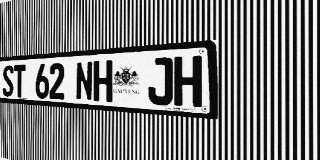2: (49, 63, 64, 100)
6: (35, 63, 49, 99)
H: (174, 56, 202, 107), (93, 60, 112, 102)
J: (148, 57, 173, 106)
N: (76, 61, 93, 101)
S: (3, 65, 14, 97)
T: (14, 65, 26, 98)
